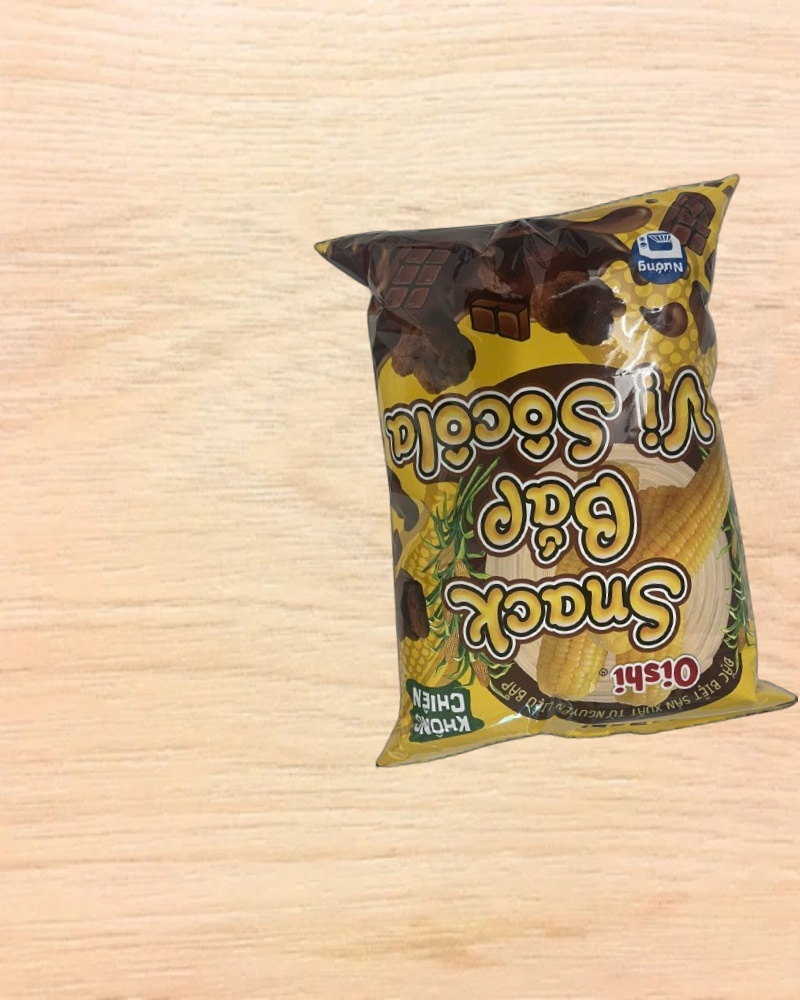Snack socola: (314, 176, 800, 768)
